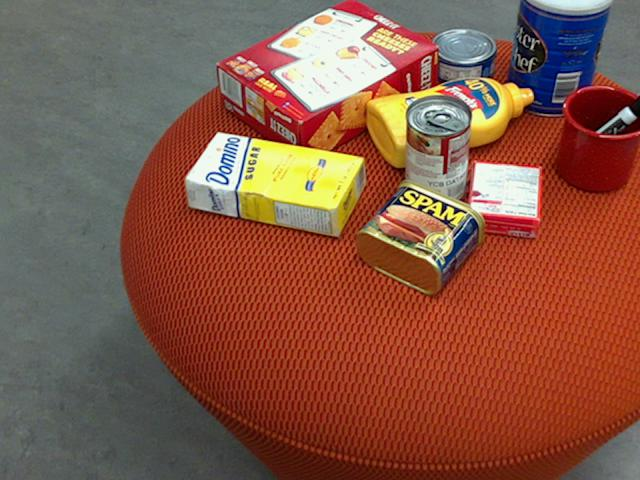cracker_box: (215, 0, 438, 164)
gelatin_box: (466, 161, 543, 239)
large_marker: (560, 94, 639, 170)
master_chef_can: (505, 0, 614, 116)
mug: (557, 84, 639, 192)
mustard_bottle: (365, 78, 534, 167)
potted_meat_can: (354, 178, 484, 294)
sugar_box: (181, 130, 363, 237)
tomato_soup_can: (403, 92, 471, 208)
tuna_fish_can: (427, 29, 497, 84)
